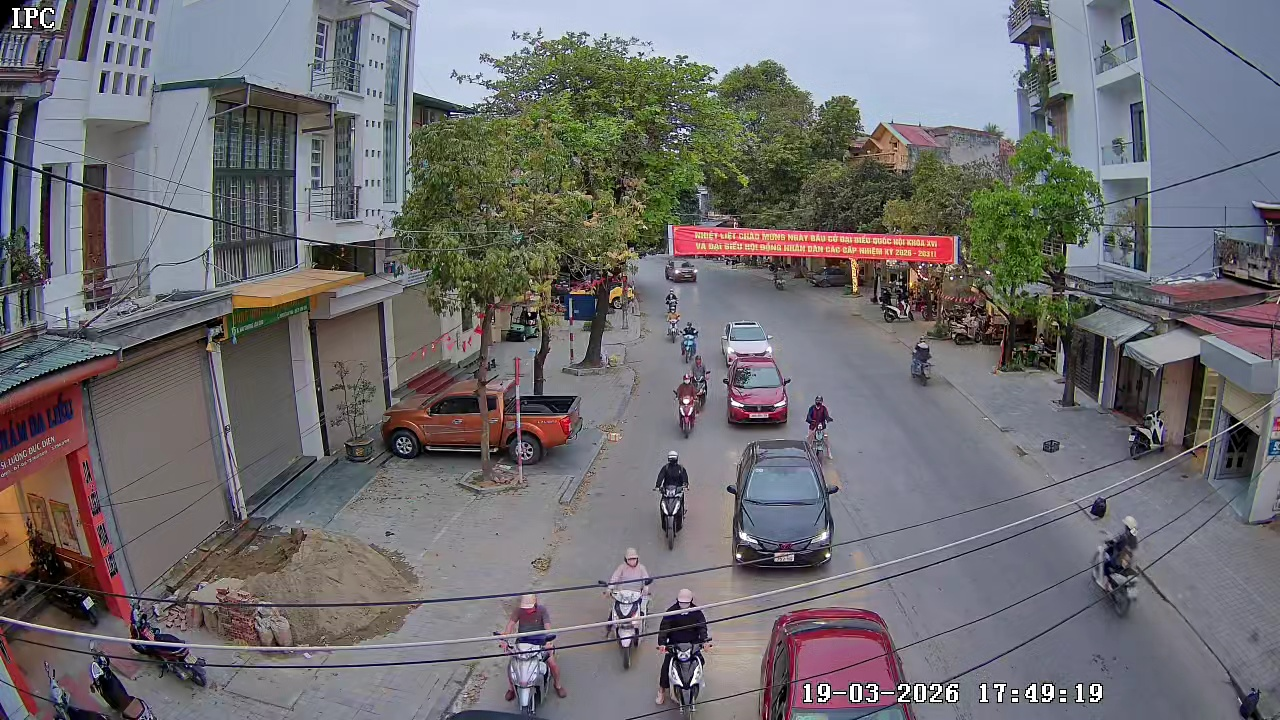car: (755, 605, 917, 719), (725, 438, 840, 569), (725, 359, 793, 427), (721, 318, 774, 368), (665, 257, 698, 283)
motorbike: (492, 593, 569, 718), (652, 588, 714, 719), (599, 547, 655, 671), (1092, 515, 1144, 620), (654, 449, 691, 549), (803, 394, 834, 464), (674, 374, 699, 438), (910, 338, 933, 387), (692, 355, 714, 403), (681, 320, 700, 364), (665, 292, 681, 324)
truck: (379, 372, 582, 461)
